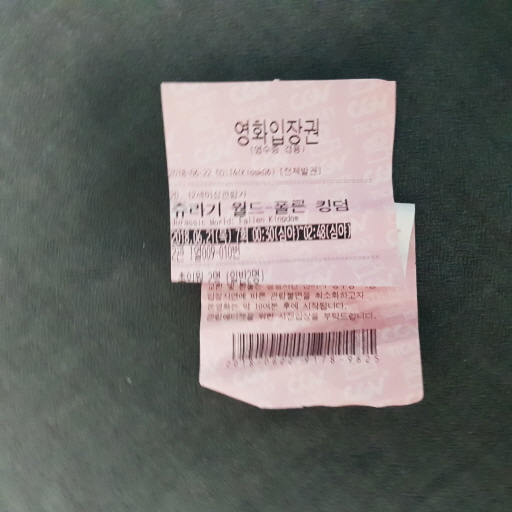Paper_3: (147, 65, 435, 417)
